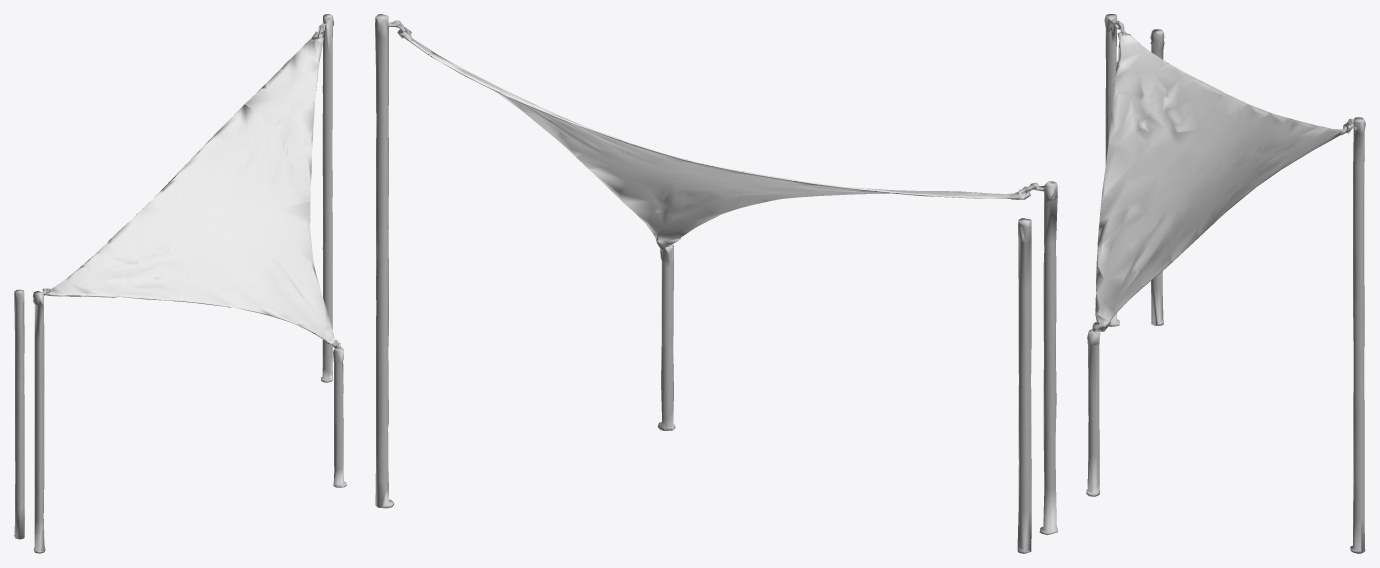
File: sail1_lod1.glb
3 views of the same model, side by side, from view 1: azimuth 30°, elevation 25°; view 2: azimuth 150°, elevation 25°; view 3: azimuth 270°, elevation 25° (orthographic). The views are drawn at different scales.
Parts seen in each view (by area): view 1: mesh_node; view 2: mesh_node; view 3: mesh_node.
Part boxes in pixels (<box>): mesh_node: <box>14,14,346,553</box>; mesh_node: <box>375,14,1057,553</box>; mesh_node: <box>1086,14,1365,553</box>.
Size of the model in its own units: 1.9 by 1.64 by 0.964.
1 material, 1 textured.
